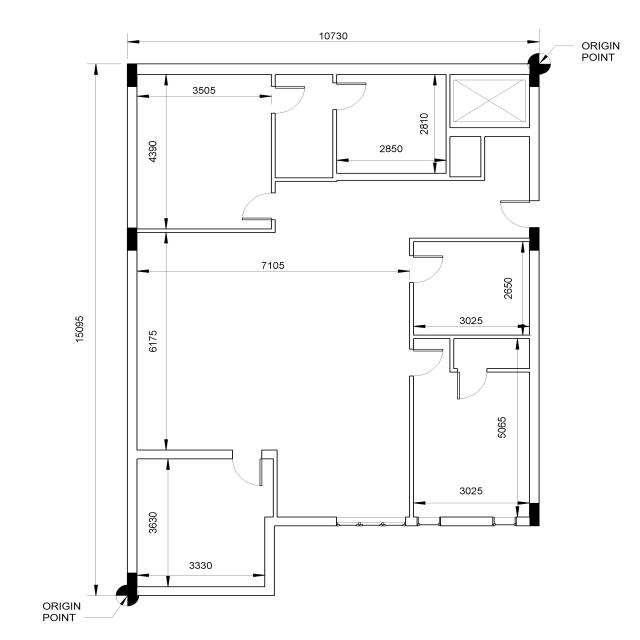Column: (527, 502, 542, 526), (126, 62, 138, 88), (126, 572, 138, 598), (530, 225, 540, 254), (128, 227, 137, 252), (532, 62, 540, 88)
Door: (226, 450, 268, 491), (493, 192, 537, 229), (407, 253, 449, 286), (272, 82, 310, 118), (412, 343, 447, 382), (236, 190, 274, 223), (452, 370, 490, 403), (330, 81, 370, 112)
Window: (332, 509, 408, 530), (415, 514, 443, 528), (491, 515, 518, 527)
